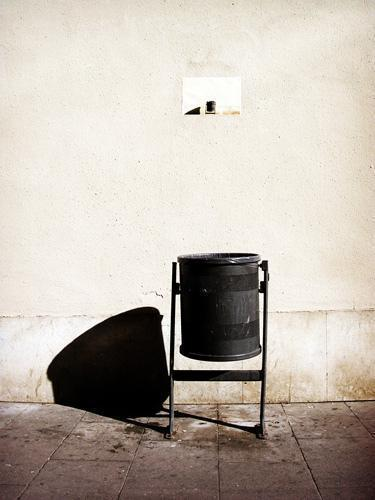Bote de Basura: (169, 247, 266, 389)
